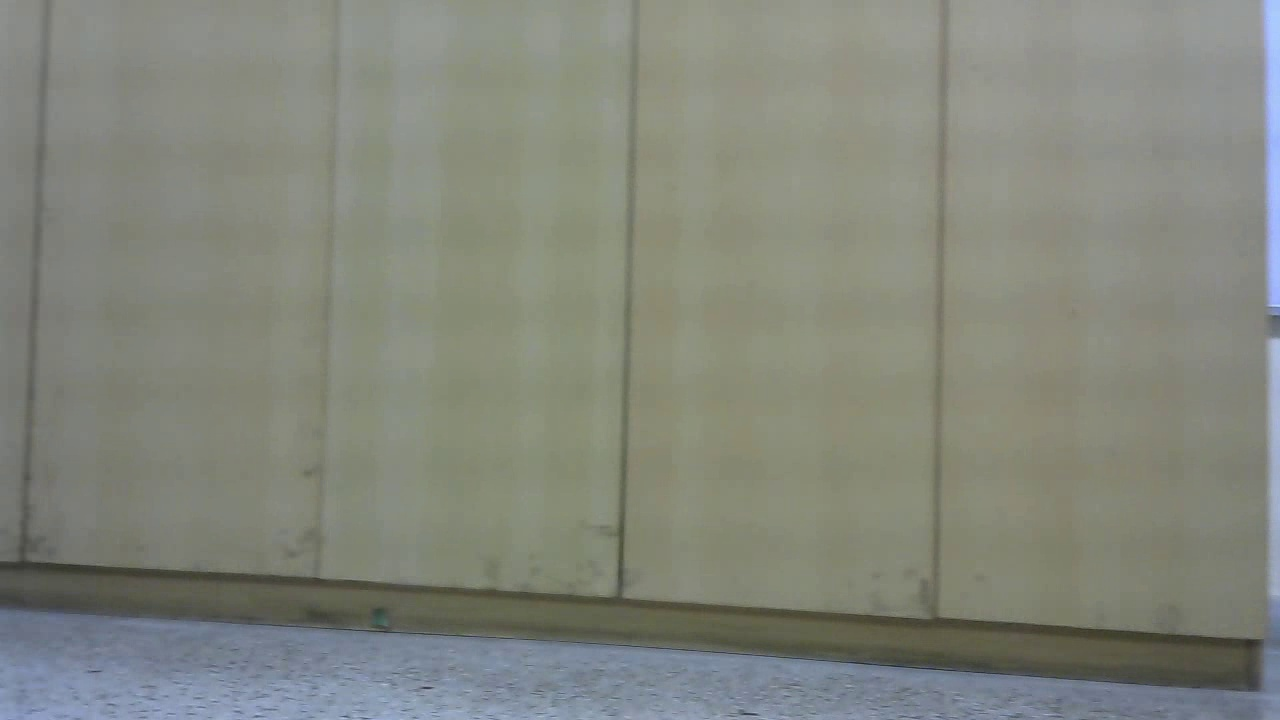chair: (1, 19, 221, 571)
